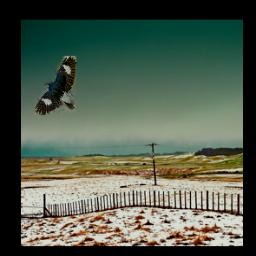Woodpecker: (35, 57, 76, 116)
